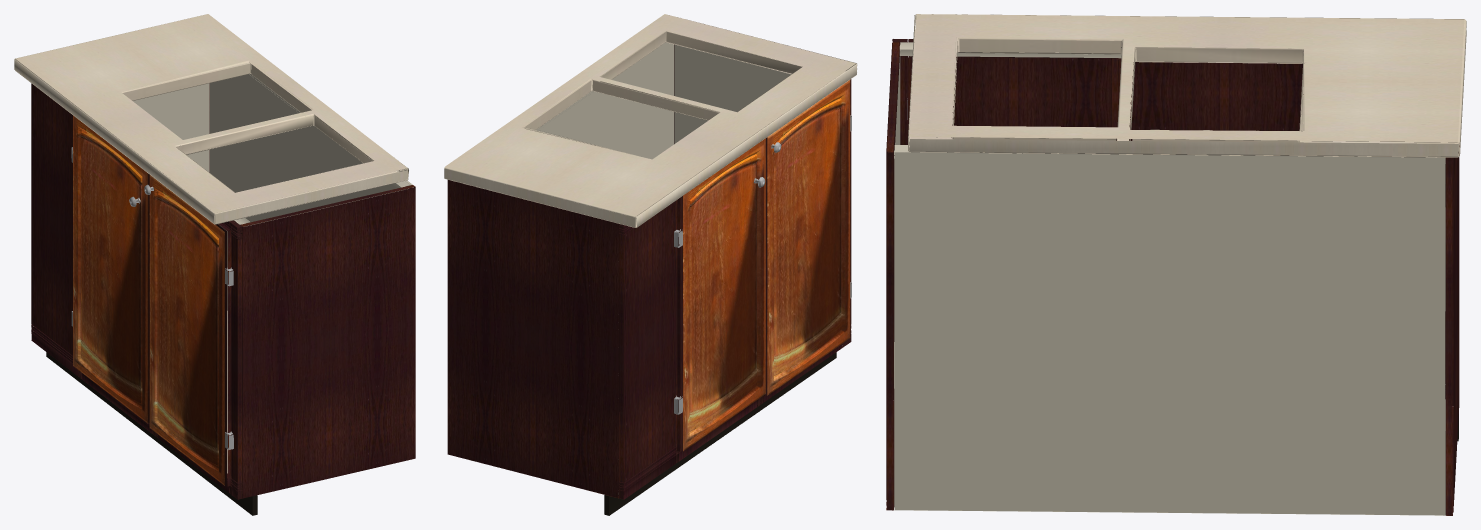
The picture shows the model from 3 angles, left to right: view 1: azimuth 30°, elevation 25°; view 2: azimuth 150°, elevation 25°; view 3: azimuth 270°, elevation 25°; orthographic projection. The views are drawn at different scales.
Visible parts, largest first — view 1: sink_base_carcass, sink_countertop, sink_base_right_door, sink_base_left_door; view 2: sink_base_carcass, sink_countertop, sink_base_left_door, sink_base_right_door; view 3: sink_base_carcass, sink_countertop, sink_base_left_door, sink_base_right_door.
Part boxes in pixels (x1=…): sink_base_carcass: x1=31, y1=74, x2=415, y2=515; sink_countertop: x1=14, y1=14, x2=408, y2=224; sink_base_right_door: x1=144, y1=175, x2=233, y2=486; sink_base_left_door: x1=71, y1=115, x2=149, y2=423; sink_base_carcass: x1=447, y1=42, x2=851, y2=515; sink_countertop: x1=444, y1=14, x2=857, y2=227; sink_base_left_door: x1=674, y1=138, x2=765, y2=451; sink_base_right_door: x1=763, y1=80, x2=851, y2=395; sink_base_carcass: x1=886, y1=39, x2=1459, y2=515; sink_countertop: x1=908, y1=14, x2=1466, y2=157; sink_base_left_door: x1=1129, y1=62, x2=1303, y2=140; sink_base_right_door: x1=907, y1=57, x2=1111, y2=137.
Size of the model in its own units: 0.7069 by 1.02 by 1.34.
Materials: 7 (4 with a texture image).
